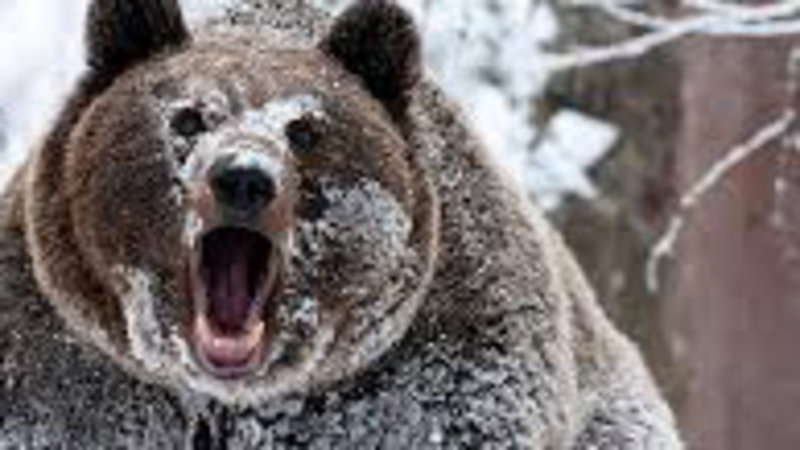bear: (16, 2, 452, 405)
